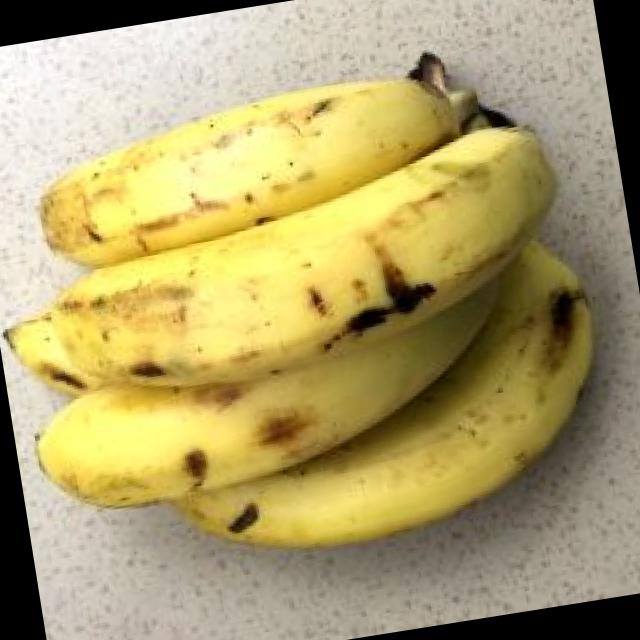banana: (81, 66, 618, 556)
